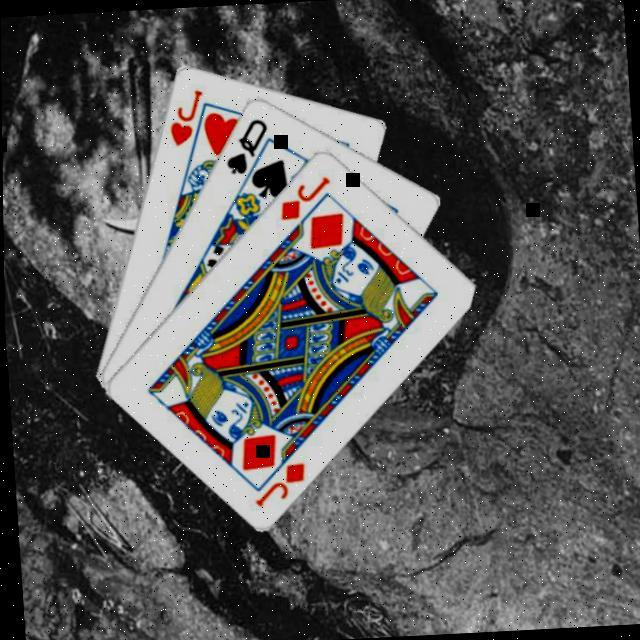JD: (246, 458, 309, 512), (273, 173, 334, 224)
JH: (163, 86, 208, 150)
QS: (218, 115, 272, 179)
